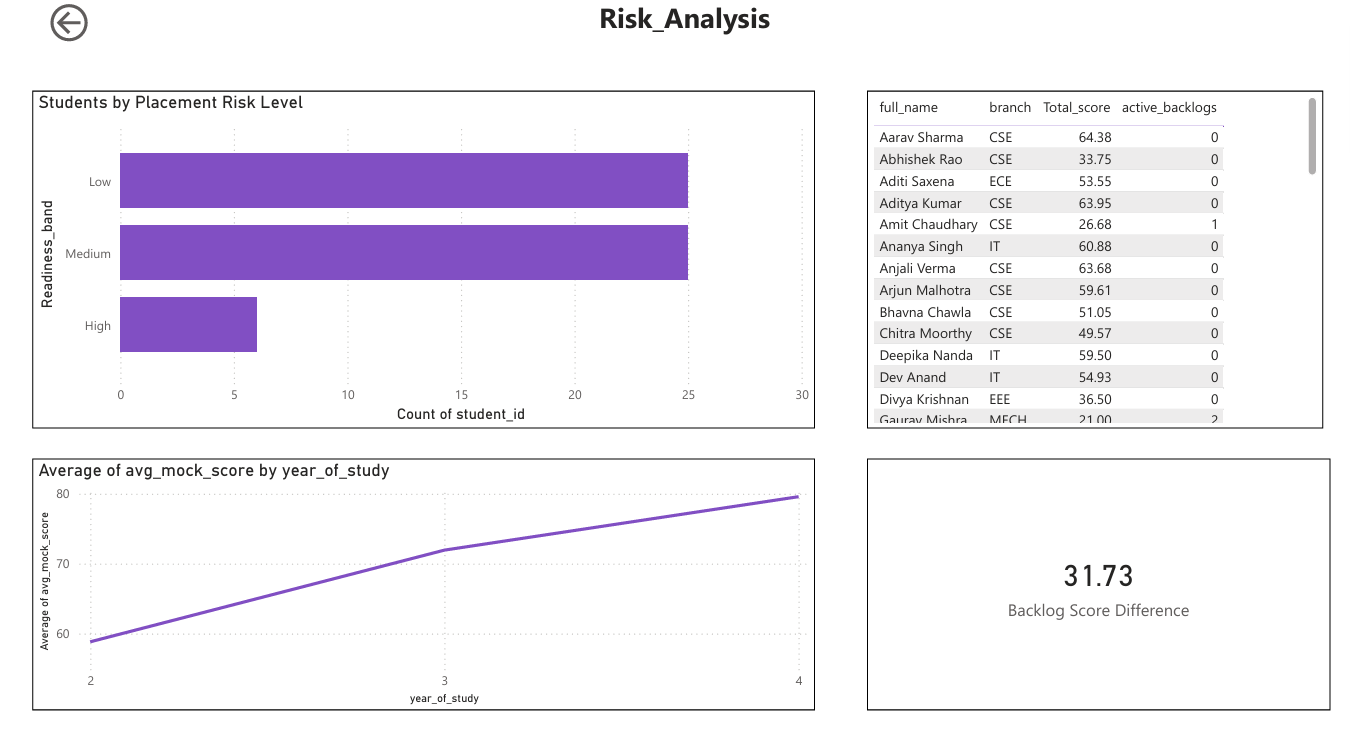

Layout of this report page (visuals, bound fields, positions):
{"tool":"powerbi","page":{"name":"Risk_Analysis","canvas":[1280,720],"ordinal":4},"visuals":[{"type":"textbox","box":[10,8,1252,56],"z":0},{"type":"clusteredBarChart","title":"Students by Placement Risk Level","fields":{"Y":["CountNonNull(Main_Data.student_id)"],"Category":["Main_Data.Readiness_band"]},"box":[10,102,544,326],"z":1000},{"type":"tableEx","fields":{"Values":["MockTests.full_name","MockTests.branch","Main_Data.Total_score","Main_Data.active_backlogs"]},"box":[584,102,496,326],"z":2000},{"type":"card","fields":{"Values":["Main_Data.Backlog Score Difference"]},"box":[584,456,496,244],"z":3000},{"type":"lineChart","fields":{"Category":["Main_Data.year_of_study"],"Y":["Avg(Main_Data.avg_mock_score)"]},"box":[10,456,544,244],"z":4000},{"type":"actionButton","box":[0,0,100,40],"z":5000}]}

Visuals, with their boxes in screenshot pixels (x1, y1, x2, y2), scaled from the page's 1280x720 canvas onto the 1372x752 screenshot:
textbox: detection(11, 8, 1353, 67)
"Students by Placement Risk Level" clusteredBarChart: detection(11, 107, 594, 447)
tableEx - MockTests.full_name x MockTests.branch: detection(626, 107, 1158, 447)
card - Main_Data.Backlog Score Difference: detection(626, 476, 1158, 731)
lineChart - Main_Data.year_of_study x Avg(Main_Data.avg_mock_score): detection(11, 476, 594, 731)
actionButton: detection(0, 0, 107, 42)
